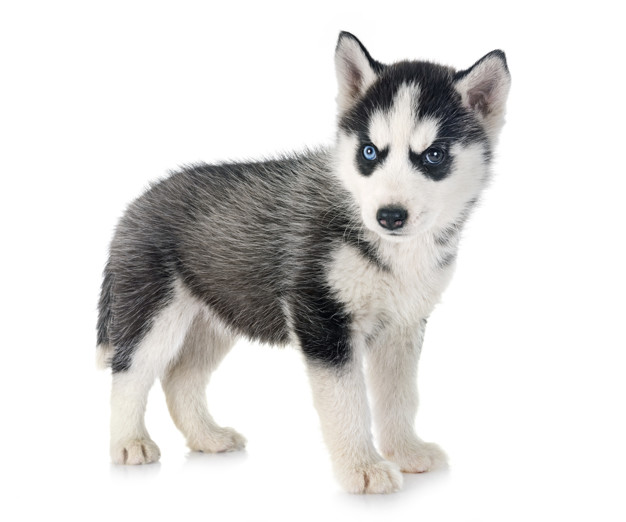husky: (92, 36, 526, 488)
